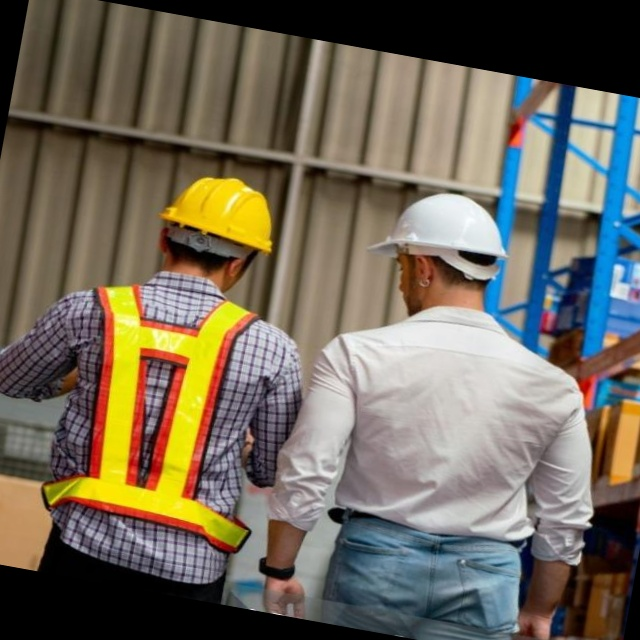Con_Casco: (359, 182, 520, 324), (147, 165, 284, 293)
Con_Chaleco: (37, 268, 307, 555)
Sin_Chaleco: (295, 303, 595, 560)
